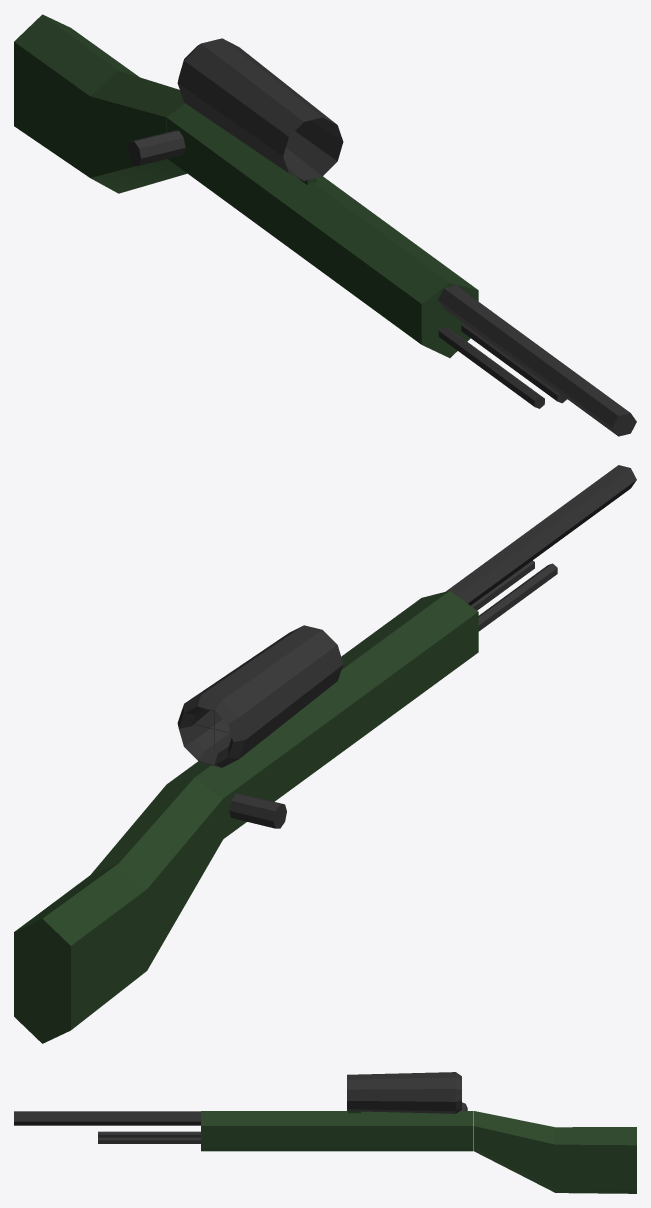
Rendered from sniper.obj.
3 renders of one model, top to bottom at view 1: azimuth 30°, elevation 25°; view 2: azimuth 150°, elevation 25°; view 3: azimuth 270°, elevation 25°, orthographic. The views are drawn at different scales.
Parts seen in each view (by area): view 1: Cylinder.004, Cylinder.005, Torus, Cylinder.006, Cylinder.001_Cylinder.008, Cylinder, Cylinder.002_Cylinder.009; view 2: Cylinder.005, Cylinder.004, Torus, Cylinder.006, Cylinder, Cylinder.001_Cylinder.008; view 3: Cylinder.004, Cylinder.005, Torus, Cylinder.006, Cylinder.001_Cylinder.008, Cylinder.002_Cylinder.009.
Boxes of the visible parts, bbox=[...] form: Cylinder.004: bbox=[166, 103, 478, 357]; Cylinder.005: bbox=[14, 14, 316, 193]; Torus: bbox=[177, 38, 343, 180]; Cylinder.006: bbox=[438, 285, 636, 436]; Cylinder.001_Cylinder.008: bbox=[438, 326, 544, 408]; Cylinder: bbox=[127, 130, 185, 165]; Cylinder.002_Cylinder.009: bbox=[461, 323, 566, 403]; Cylinder.005: bbox=[14, 777, 223, 1043]; Cylinder.004: bbox=[167, 590, 478, 838]; Torus: bbox=[177, 625, 343, 767]; Cylinder.006: bbox=[446, 465, 636, 605]; Cylinder: bbox=[229, 793, 286, 828]; Cylinder.001_Cylinder.008: bbox=[478, 563, 557, 631]; Cylinder.004: bbox=[201, 1111, 473, 1151]; Cylinder.005: bbox=[348, 1111, 636, 1193]; Torus: bbox=[347, 1072, 461, 1113]; Cylinder.006: bbox=[14, 1111, 200, 1125]; Cylinder.001_Cylinder.008: bbox=[98, 1131, 200, 1137]; Cylinder.002_Cylinder.009: bbox=[98, 1137, 200, 1143].
Size of the model in its own units: 2.75 by 5.46 by 25.88.
